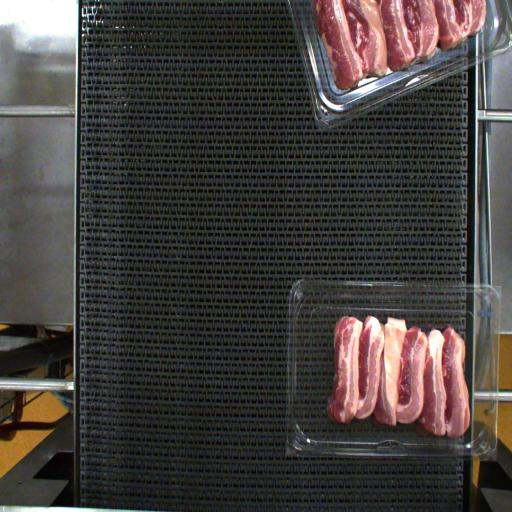twisted-meat: (372, 317, 409, 432)
